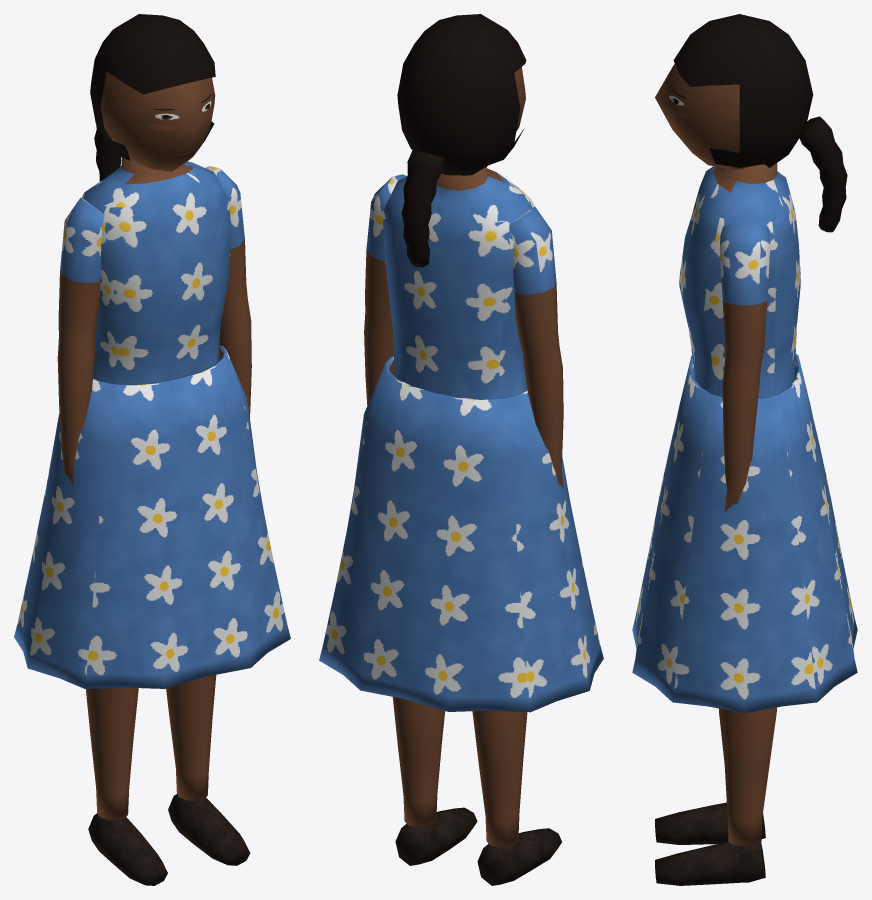
Rendered from persona_nina_b.obj.
The picture shows the model from 3 angles, left to right: view 1: azimuth 30°, elevation 25°; view 2: azimuth 150°, elevation 25°; view 3: azimuth 270°, elevation 25°; orthographic projection. The views are drawn at different scales.
Visible parts, largest first — view 1: Falda, Torso, BrazoDer, Pelo, PiernaDer, Cabeza, PiernaIzq, BrazoIzq; view 2: Falda, Torso, Pelo, BrazoDer, PiernaDer, PiernaIzq, BrazoIzq; view 3: Falda, Torso, Pelo, BrazoIzq, PiernaIzq, Cabeza, PiernaDer.
Part boxes in pixels (x1=…): Falda: x1=14, y1=345, x2=290, y2=688; Torso: x1=82, y1=158, x2=230, y2=384; BrazoDer: x1=57, y1=197, x2=104, y2=485; Pelo: x1=90, y1=14, x2=215, y2=181; PiernaDer: x1=86, y1=687, x2=167, y2=885; Cabeza: x1=100, y1=71, x2=215, y2=171; PiernaIzq: x1=166, y1=675, x2=250, y2=865; BrazoIzq: x1=205, y1=166, x2=251, y2=417; Falda: x1=319, y1=356, x2=603, y2=712; Torso: x1=382, y1=166, x2=534, y2=399; Pelo: x1=397, y1=14, x2=526, y2=267; BrazoDer: x1=509, y1=207, x2=563, y2=488; PiernaDer: x1=472, y1=710, x2=561, y2=885; PiernaIzq: x1=392, y1=697, x2=477, y2=865; BrazoIzq: x1=364, y1=174, x2=406, y2=405; Falda: x1=632, y1=352, x2=857, y2=713; Torso: x1=678, y1=163, x2=800, y2=398; Pelo: x1=673, y1=14, x2=847, y2=232; BrazoIzq: x1=719, y1=223, x2=770, y2=511; PiernaIzq: x1=655, y1=707, x2=776, y2=885; Cabeza: x1=655, y1=64, x2=764, y2=169; PiernaDer: x1=655, y1=802, x2=765, y2=844.
Bounding box in the file's own units: 0.3628 × 1.15 × 0.2787.
Materials: 5 (5 with a texture image).
